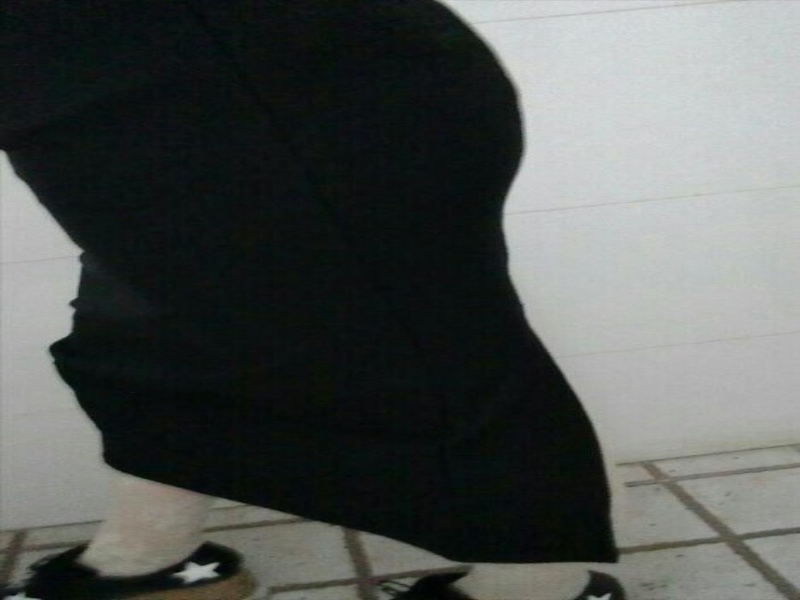skirt: (0, 0, 629, 568)
